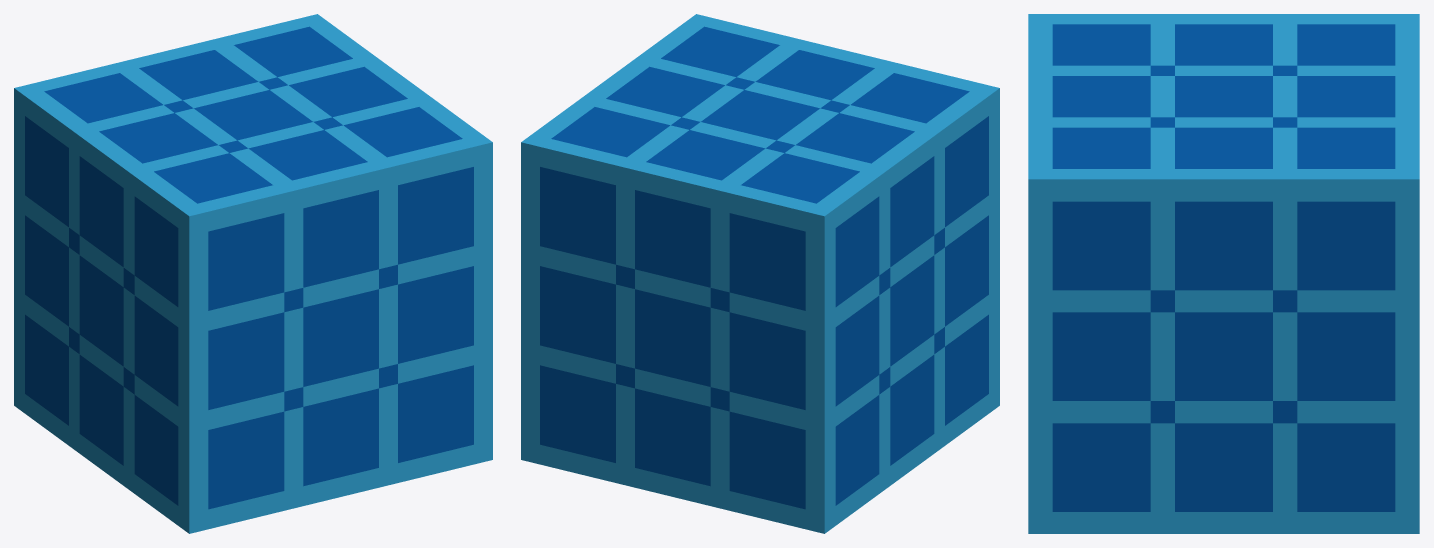
The model's file is CyberTiles_-_Blue.fbx.
3 renders of one model, left to right at view 1: azimuth 30°, elevation 25°; view 2: azimuth 150°, elevation 25°; view 3: azimuth 270°, elevation 25°, orthographic. The views are drawn at different scales.
Parts seen in each view (by area): view 1: cyber_tiles - blue; view 2: cyber_tiles - blue; view 3: cyber_tiles - blue.
Boxes of the visible parts, x1,y1,x2,y2 form: cyber_tiles - blue: (14,14,492,533); cyber_tiles - blue: (521,14,999,533); cyber_tiles - blue: (1028,14,1419,533).
Bounding box in the file's own units: 1.6 × 1.6 × 1.6.
1 material, 1 textured.
